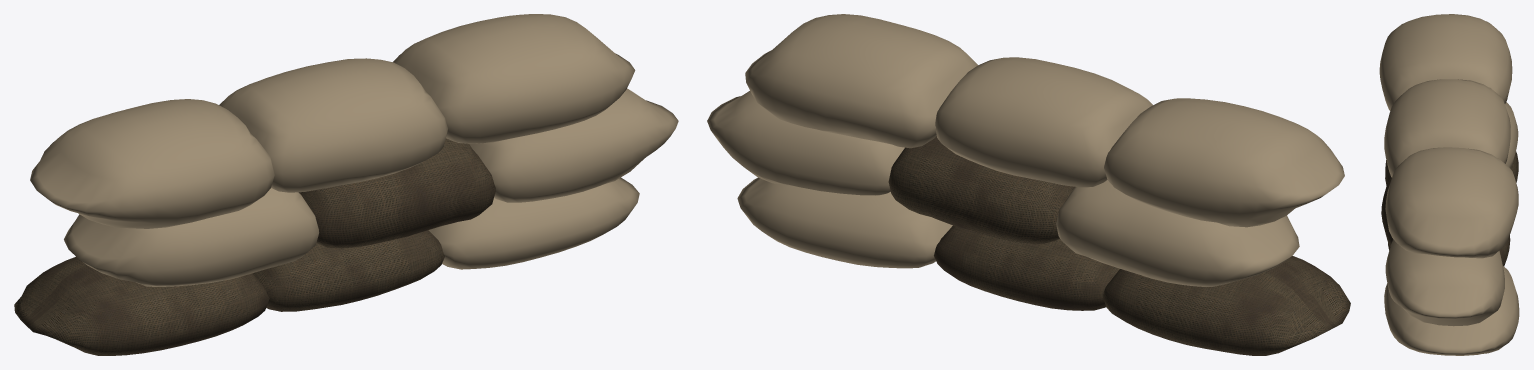
File: S7U_SandbagsS_3L_A.fbx
The picture shows the model from 3 angles, left to right: view 1: azimuth 30°, elevation 25°; view 2: azimuth 150°, elevation 25°; view 3: azimuth 270°, elevation 25°; orthographic projection. The views are drawn at different scales.
Parts seen in each view (by area): view 1: S7U_SandbagsS_3L_A; view 2: S7U_SandbagsS_3L_A; view 3: S7U_SandbagsS_3L_A.
Boxes of the visible parts, x1,y1,x2,y2 form: S7U_SandbagsS_3L_A: (14,14,678,355); S7U_SandbagsS_3L_A: (707,14,1350,355); S7U_SandbagsS_3L_A: (1379,14,1519,355).
Size of the model in its own units: 1.26 by 0.4085 by 0.3104.
